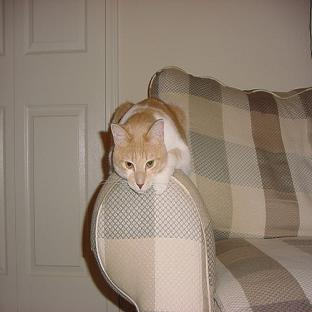Animal: (110, 98, 190, 193)
